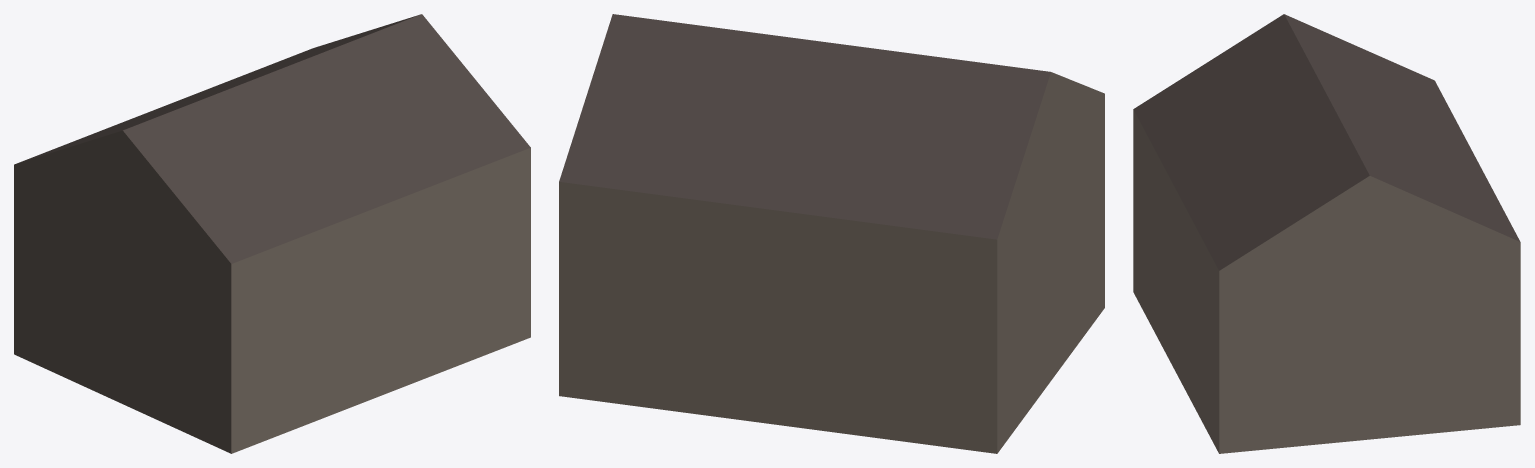
The picture shows the model from 3 angles, left to right: view 1: azimuth 30°, elevation 25°; view 2: azimuth 150°, elevation 25°; view 3: azimuth 270°, elevation 25°; orthographic projection. The views are drawn at different scales.
Visible parts, largest first — view 1: HP-w859424266; view 2: HP-w859424266; view 3: HP-w859424266.
Part boxes in pixels (x1,y1,x2,y2): HP-w859424266: (14, 14, 530, 453); HP-w859424266: (559, 14, 1104, 453); HP-w859424266: (1133, 14, 1520, 453).
Size of the model in its own units: 13.4 by 8.65 by 11.51.
